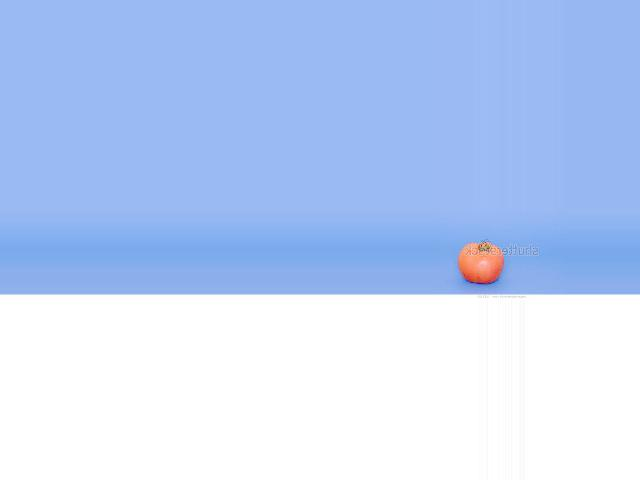tomato: (456, 242, 503, 283)
